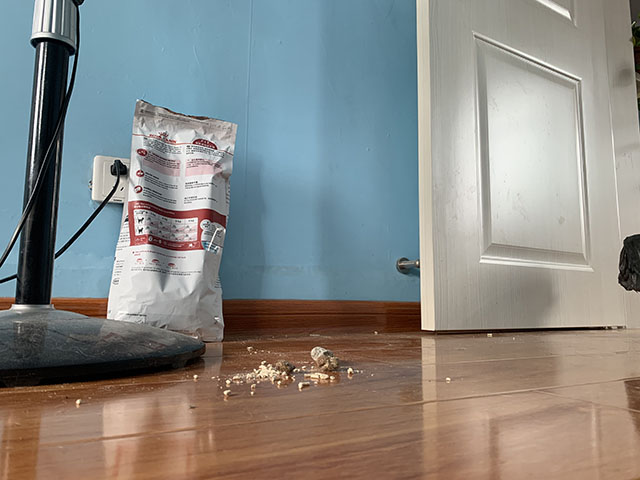feces: (311, 346, 341, 372), (273, 358, 296, 374)
wire: (1, 1, 129, 283)
